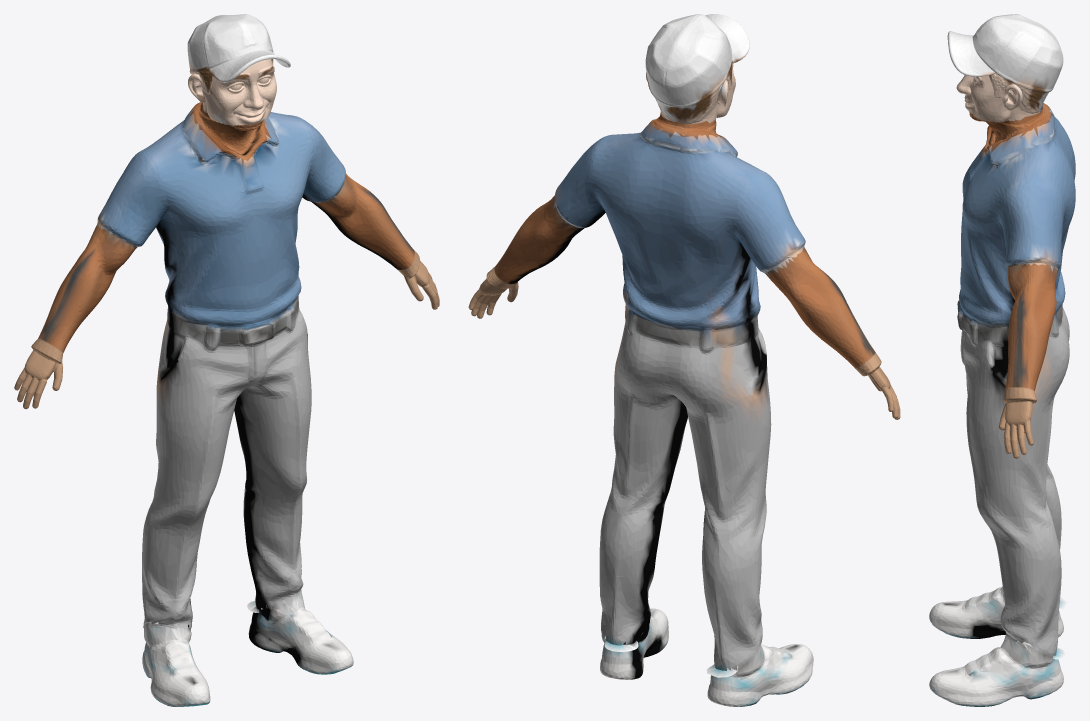
File: Caleb_upload.fbx
3 views of the same model, side by side, from view 1: azimuth 30°, elevation 25°; view 2: azimuth 150°, elevation 25°; view 3: azimuth 270°, elevation 25° (orthographic).
Parts seen in each view (by area): view 1: Bottom_Chinos, Top_Polo, Body_Arms, Shoes_Golf, Head_Caleb, Belt; view 2: Bottom_Chinos, Top_Polo, Body_Arms, Head_Caleb, Shoes_Golf; view 3: Bottom_Chinos, Top_Polo, Head_Caleb, Shoes_Golf, Body_Arms, Belt.
Boxes of the visible parts, bbox=[...] form: Bottom_Chinos: bbox=[142, 307, 311, 630]; Top_Polo: bbox=[96, 103, 345, 329]; Body_Arms: bbox=[14, 102, 439, 409]; Shoes_Golf: bbox=[142, 589, 353, 706]; Head_Caleb: bbox=[187, 14, 290, 125]; Belt: bbox=[171, 296, 298, 347]; Bottom_Chinos: bbox=[599, 304, 771, 670]; Top_Polo: bbox=[553, 122, 805, 346]; Body_Arms: bbox=[468, 112, 900, 419]; Head_Caleb: bbox=[645, 14, 749, 123]; Shoes_Golf: bbox=[600, 608, 813, 706]; Bottom_Chinos: bbox=[960, 304, 1069, 658]; Top_Polo: bbox=[958, 105, 1075, 326]; Head_Caleb: bbox=[947, 14, 1063, 122]; Shoes_Golf: bbox=[929, 586, 1067, 706]; Body_Arms: bbox=[969, 103, 1057, 458]; Belt: bbox=[957, 300, 1008, 342].
Bounding box in the file's own units: 1.24 × 1.84 × 0.377.
